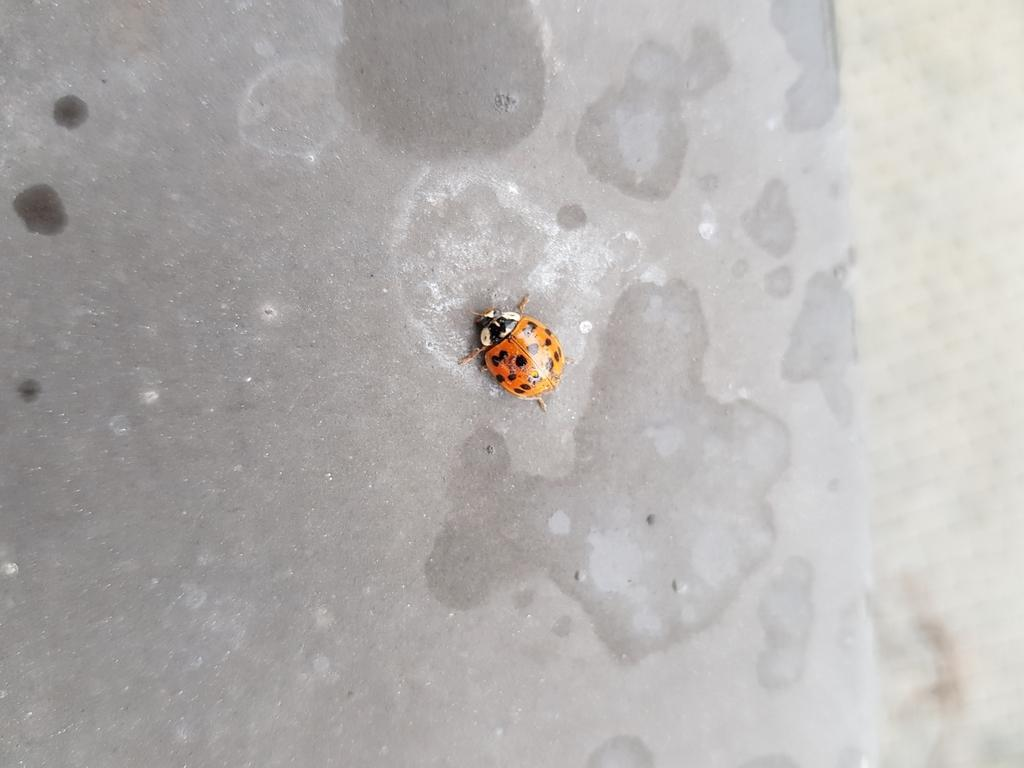ladybug: (459, 291, 571, 415)
